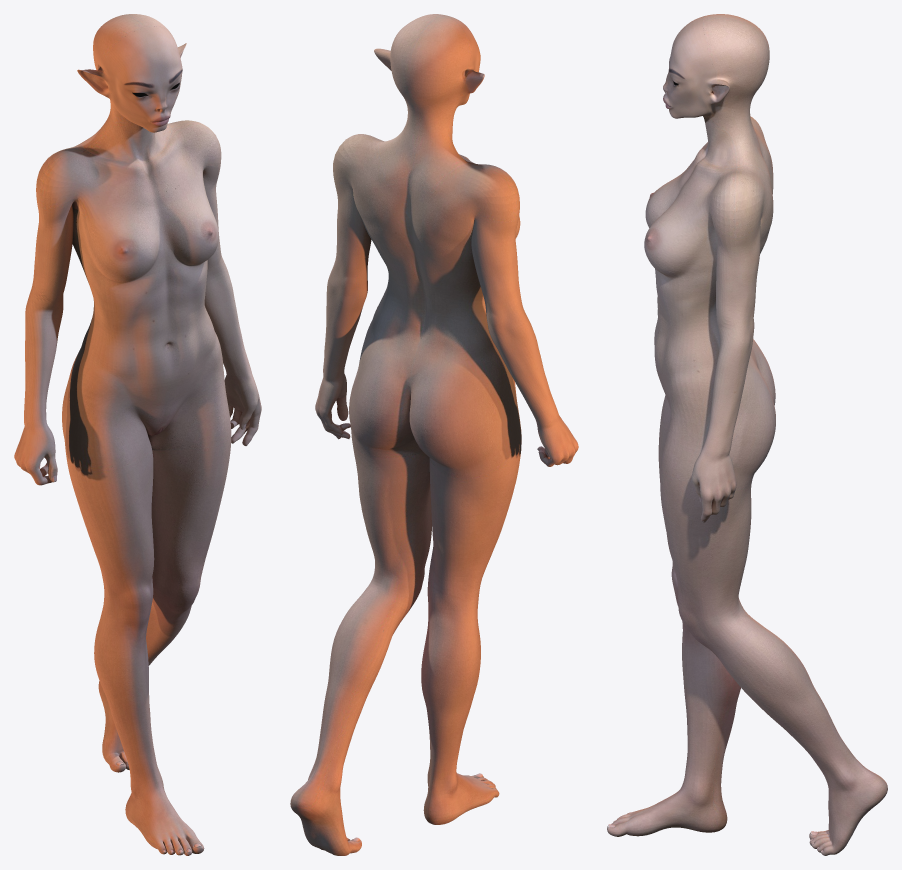
File: rebi_06.glb
3 views of the same model, side by side, from view 1: azimuth 30°, elevation 25°; view 2: azimuth 150°, elevation 25°; view 3: azimuth 270°, elevation 25° (orthographic).
Visible parts, largest first — view 1: Genesis8_1Female.Shape; view 2: Genesis8_1Female.Shape; view 3: Genesis8_1Female.Shape.
Boxes of the visible parts, left/top/right/bottom form: Genesis8_1Female.Shape: left=14, top=14, right=261, bottom=855; Genesis8_1Female.Shape: left=290, top=14, right=578, bottom=855; Genesis8_1Female.Shape: left=607, top=14, right=887, bottom=855.
Size of the model in its own units: 0.5795 by 1.79 by 0.5616.
Materials: 17 (17 with a texture image).
